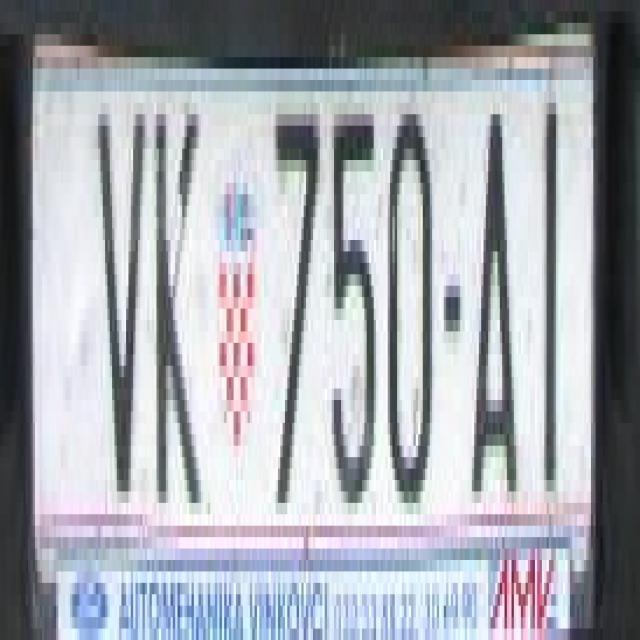0: (388, 103, 432, 503)
5: (332, 114, 376, 503)
7: (273, 114, 320, 503)
A: (472, 103, 518, 480)
K: (154, 91, 196, 492)
V: (96, 114, 145, 503)
